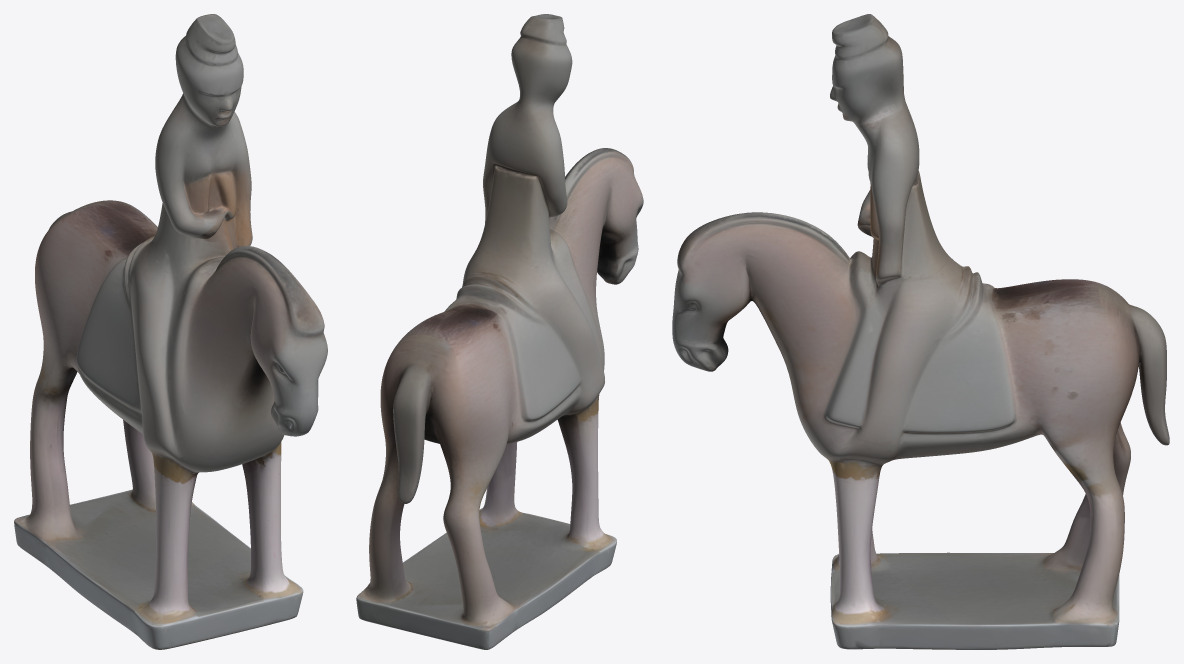
The picture shows the model from 3 angles, left to right: view 1: azimuth 30°, elevation 25°; view 2: azimuth 150°, elevation 25°; view 3: azimuth 270°, elevation 25°; orthographic projection. The views are drawn at different scales.
Parts seen in each view (by area): view 1: node_0; view 2: node_0; view 3: node_0.
Part boxes in pixels (x1=…): node_0: x1=14, y1=14, x2=327, y2=649; node_0: x1=356, y1=14, x2=643, y2=649; node_0: x1=672, y1=14, x2=1169, y2=649.
Size of the model in its own units: 0.275 by 1.03 by 0.7768.
1 material, 1 textured.
